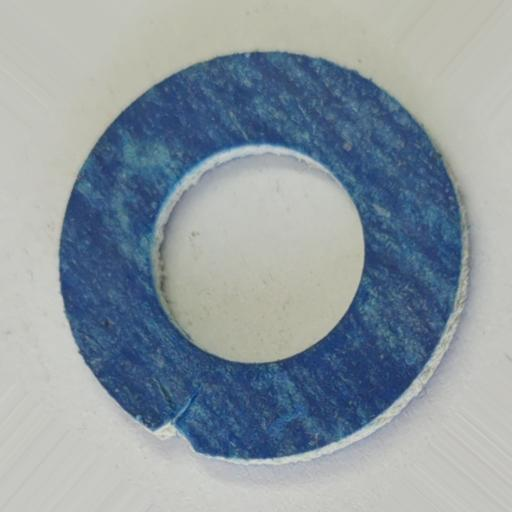defect: (152, 395, 197, 453)
